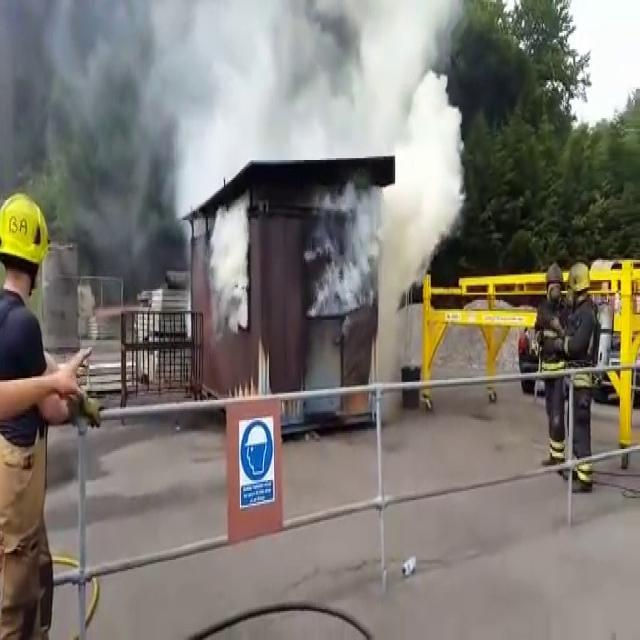Smoke: (179, 0, 466, 309)
